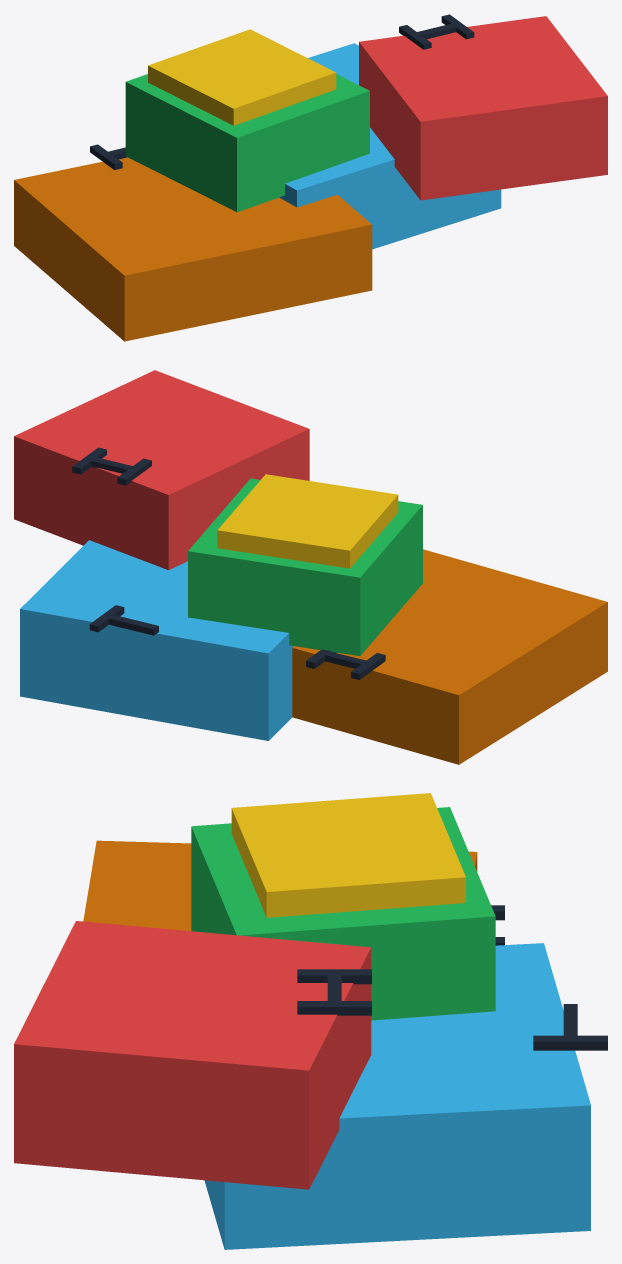
Rendered from toy_stacked_steps_s5.glb.
3 views of the same model, one above another, from view 1: azimuth 30°, elevation 25°; view 2: azimuth 150°, elevation 25°; view 3: azimuth 270°, elevation 25° (orthographic). The views are drawn at different scales.
Visible parts, largest first — view 1: solid_1, solid_3, solid_4, solid_5, solid_2, solid_11; view 2: solid_1, solid_3, solid_2, solid_4, solid_5, solid_9; view 3: solid_3, solid_2, solid_4, solid_5, solid_1, solid_10, solid_12, solid_13, solid_11, solid_9.
Part boxes in pixels (box(x1,y1,x2,y2)): solid_1: box(14, 157, 372, 341); solid_3: box(359, 16, 607, 200); solid_4: box(125, 74, 369, 212); solid_5: box(148, 29, 336, 125); solid_2: box(279, 43, 501, 249); solid_11: box(409, 21, 463, 42); solid_1: box(292, 549, 607, 764); solid_3: box(14, 370, 309, 570); solid_2: box(20, 540, 293, 740); solid_4: box(188, 478, 422, 655); solid_5: box(217, 474, 398, 568); solid_9: box(100, 613, 158, 635); solid_3: box(14, 921, 371, 1189); solid_2: box(204, 943, 590, 1249); solid_4: box(191, 807, 495, 1020); solid_5: box(231, 793, 465, 917); solid_1: box(83, 840, 477, 930); solid_10: box(533, 1035, 607, 1050); solid_12: box(297, 969, 371, 984); solid_13: box(297, 1001, 371, 1015); solid_11: box(327, 969, 341, 1015); solid_9: box(563, 1004, 577, 1050).
Bounding box in the file's own units: 4.85 × 1.53 × 3.35.
